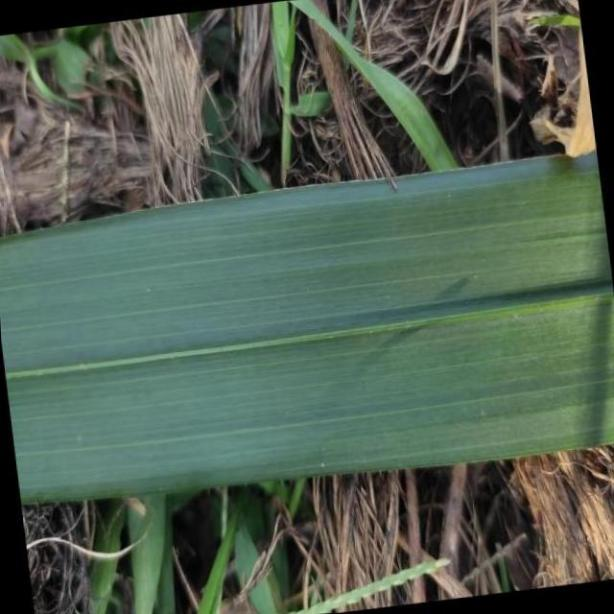Healthy: (7, 149, 614, 504)
